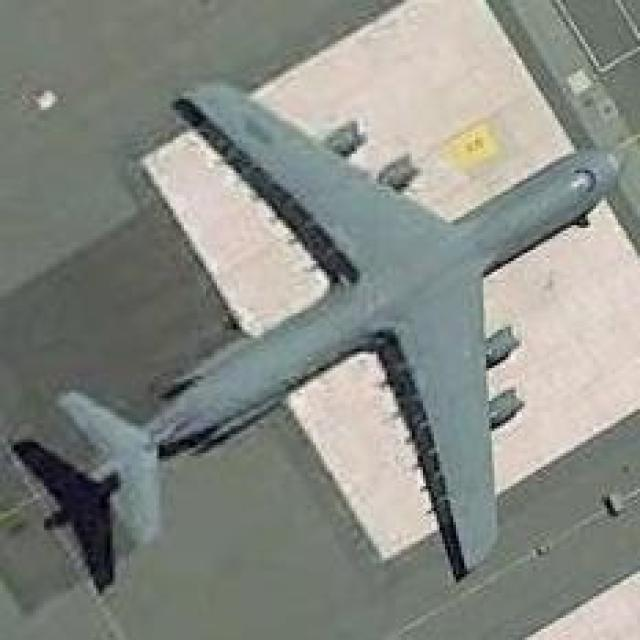C-5_TopDown: (11, 72, 638, 594)
